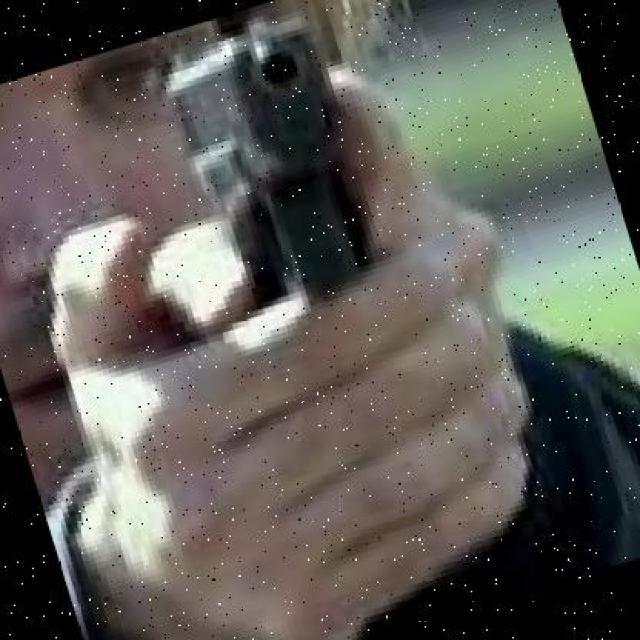rifle: (0, 0, 639, 640), (108, 70, 526, 640), (0, 3, 261, 456), (25, 193, 314, 513), (151, 21, 411, 316)
